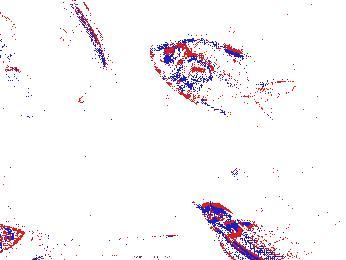X-ray fish: (148, 39, 289, 121)
glassfish: (34, 1, 131, 103), (195, 203, 294, 260)
siberian prawn: (1, 13, 47, 120), (28, 229, 117, 260)
